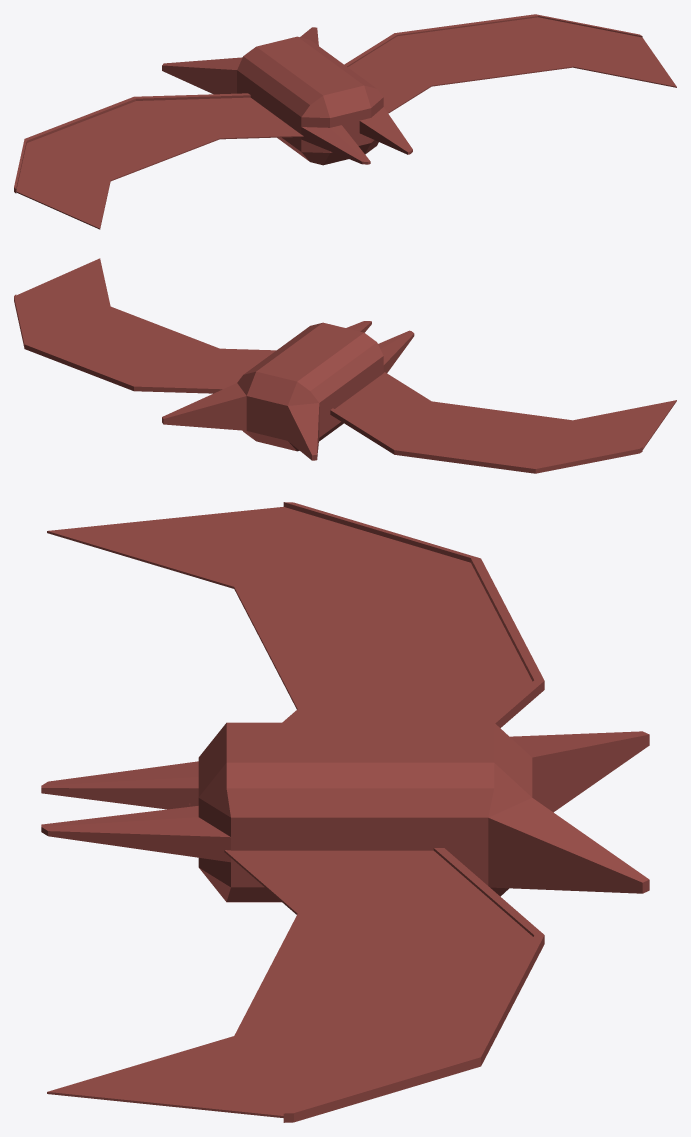
The model's file is EnemyMetalBullet.gltf.
The picture shows the model from 3 angles, top to bottom: view 1: azimuth 30°, elevation 25°; view 2: azimuth 150°, elevation 25°; view 3: azimuth 270°, elevation 25°; orthographic projection. The views are drawn at different scales.
Parts seen in each view (by area): view 1: WingL, WingR, Body; view 2: WingL, WingR, Body; view 3: WingR, Body, WingL.
Boxes of the visible parts, box(x1,y1,x2,y2) form: WingL: box(14, 93, 303, 229); WingR: box(344, 14, 676, 113); Body: box(162, 27, 412, 165); WingL: box(330, 372, 676, 473); WingR: box(14, 258, 276, 393); Body: box(162, 321, 414, 460); WingR: box(47, 848, 544, 1122); Body: box(41, 722, 649, 902); WingL: box(47, 502, 544, 805).
Size of the model in its own units: 0.4782 by 0.0509 by 0.2011.
